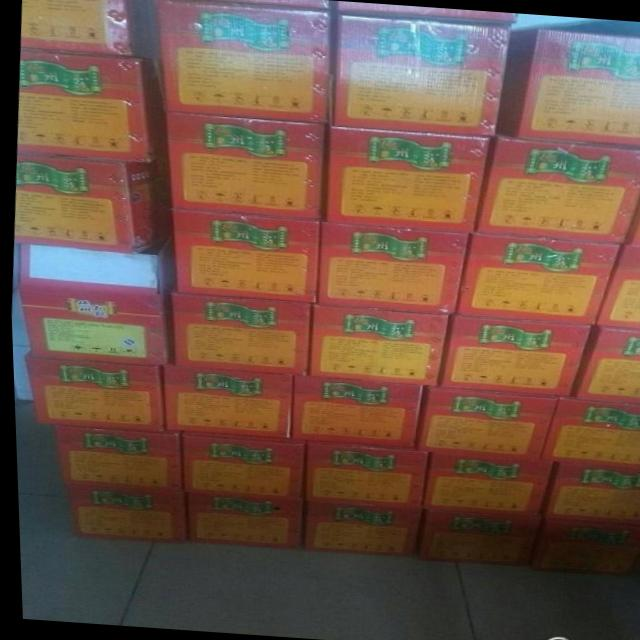box: (328, 13, 513, 136), (155, 0, 336, 125), (475, 133, 640, 244), (322, 126, 487, 234), (163, 111, 324, 220), (495, 28, 640, 147), (15, 48, 164, 161), (12, 151, 168, 253), (454, 234, 620, 325), (315, 221, 469, 316), (168, 208, 318, 303), (436, 314, 588, 397), (166, 292, 312, 375), (305, 304, 451, 386), (18, 286, 168, 364), (19, 354, 158, 429), (411, 386, 556, 456), (158, 365, 290, 438), (288, 376, 420, 446), (15, 238, 173, 294), (420, 452, 552, 516), (52, 425, 176, 493), (301, 442, 425, 509), (177, 434, 299, 500), (56, 483, 183, 541), (538, 395, 640, 464), (413, 509, 537, 564), (298, 499, 415, 556), (180, 494, 299, 549), (538, 461, 640, 524), (532, 519, 640, 575), (20, 0, 129, 53), (566, 326, 640, 404), (333, 0, 521, 26), (592, 246, 640, 329), (167, 0, 335, 10), (624, 198, 640, 246)
